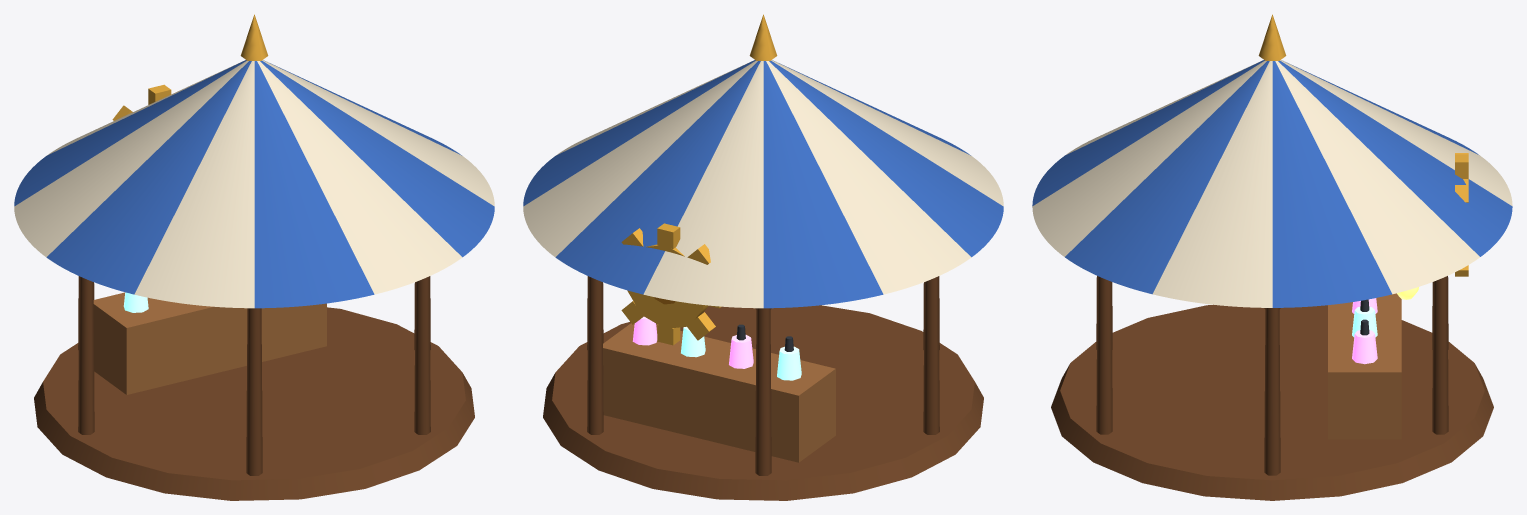
File: UpgradeBooth.glb
3 renders of one model, left to right at view 1: azimuth 30°, elevation 25°; view 2: azimuth 150°, elevation 25°; view 3: azimuth 270°, elevation 25°, orthographic.
Parts seen in each view (by area): view 1: Body; view 2: Body, Potion, Glow; view 3: Body, Potion.
Part boxes in pixels (left/top/right/bottom): Body: left=14, top=14, right=494, bottom=500; Body: left=523, top=14, right=1003, bottom=500; Potion: left=632, top=316, right=753, bottom=368; Glow: left=681, top=326, right=801, bottom=380; Body: left=1032, top=14, right=1512, bottom=500; Potion: left=1352, top=298, right=1377, bottom=364.
Bounding box in the file's own units: 10.4 × 9.4 × 10.4.
Materials: 4 (1 with a texture image).
